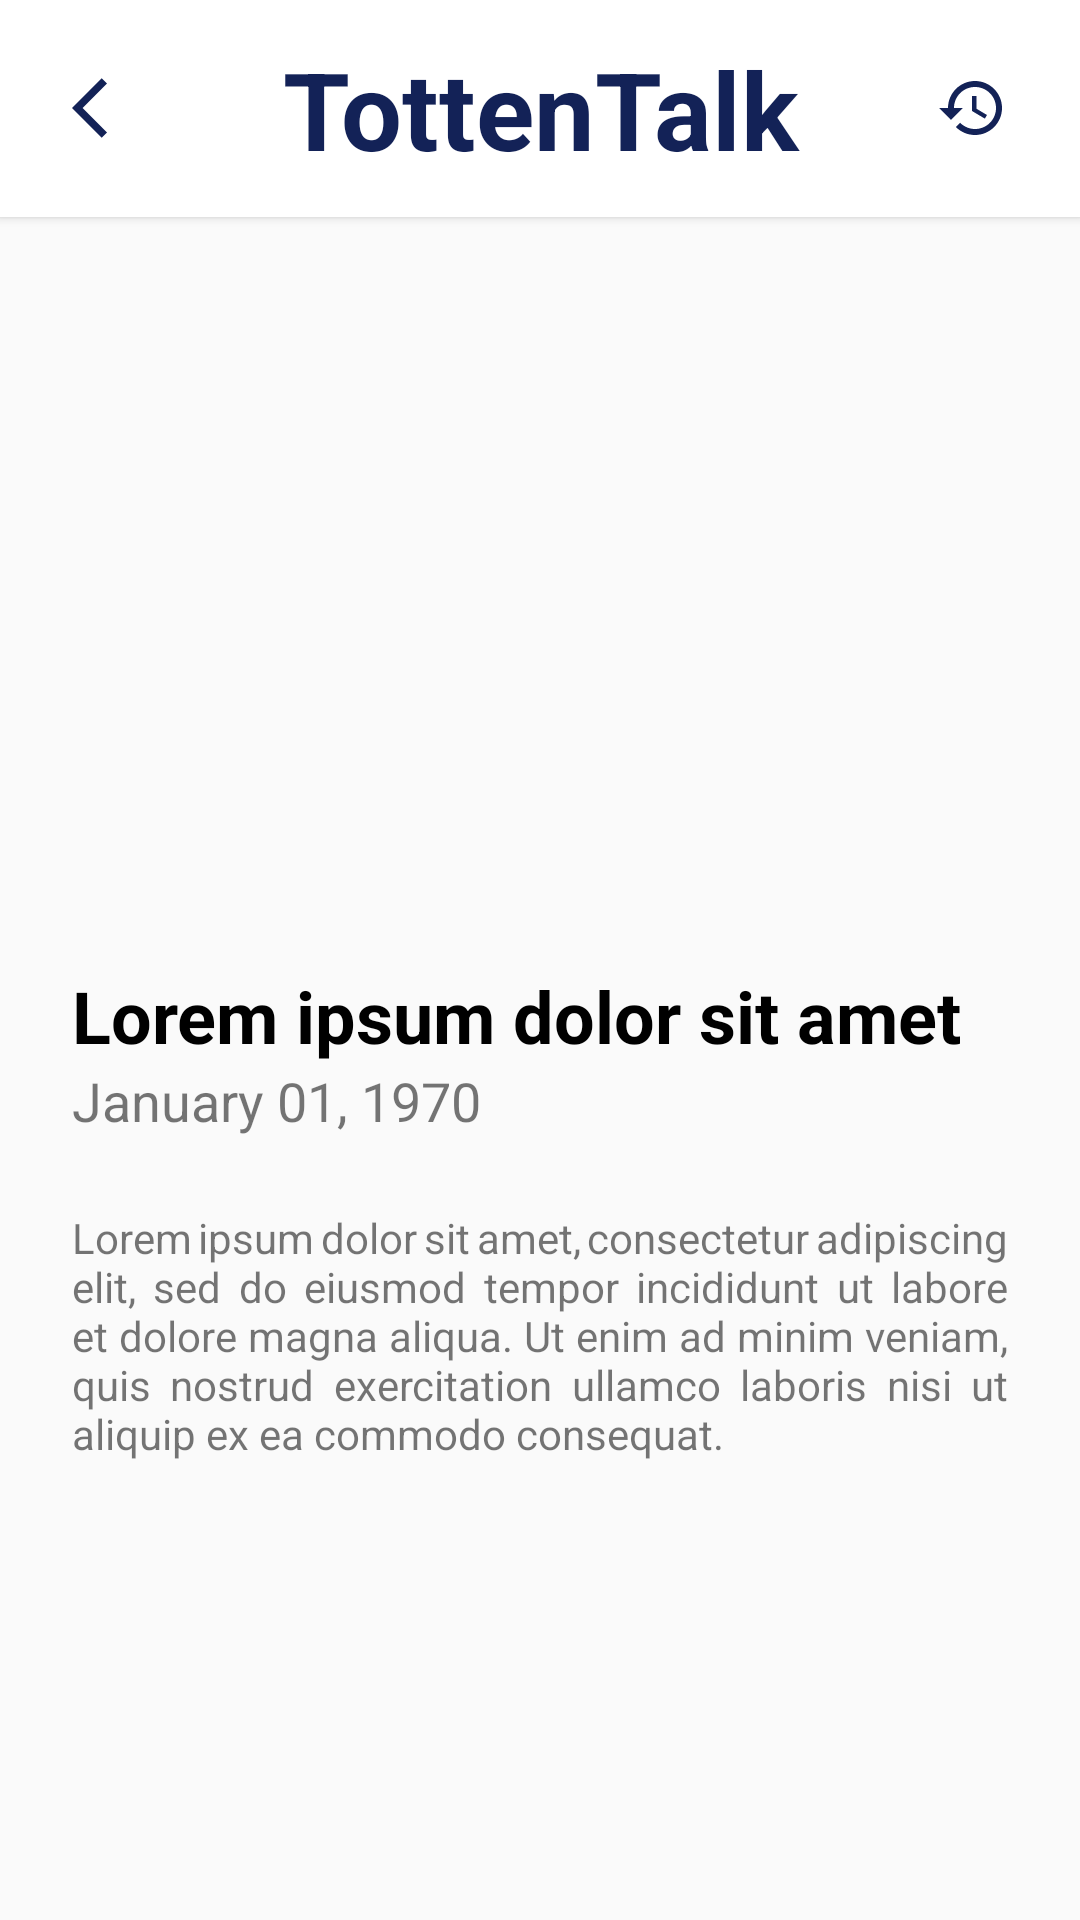

Locate icon controls on the screen. Image size 1080*1920, boxes as (x1, y1, x2, y2).
Back Button: (72, 78, 107, 138)
History Button: (939, 81, 1002, 135)
